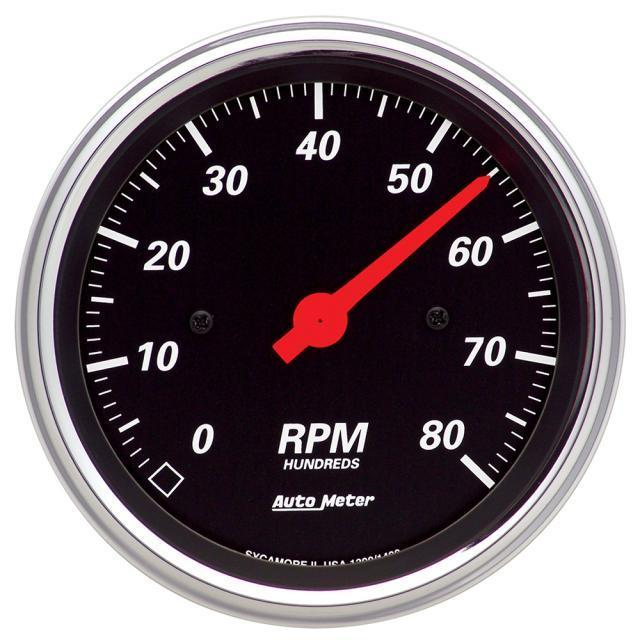Needle_Tip: (433, 158, 536, 211)
Needle_base: (270, 276, 360, 367)
max_value: (409, 395, 472, 466)
min_value: (169, 401, 238, 479)
